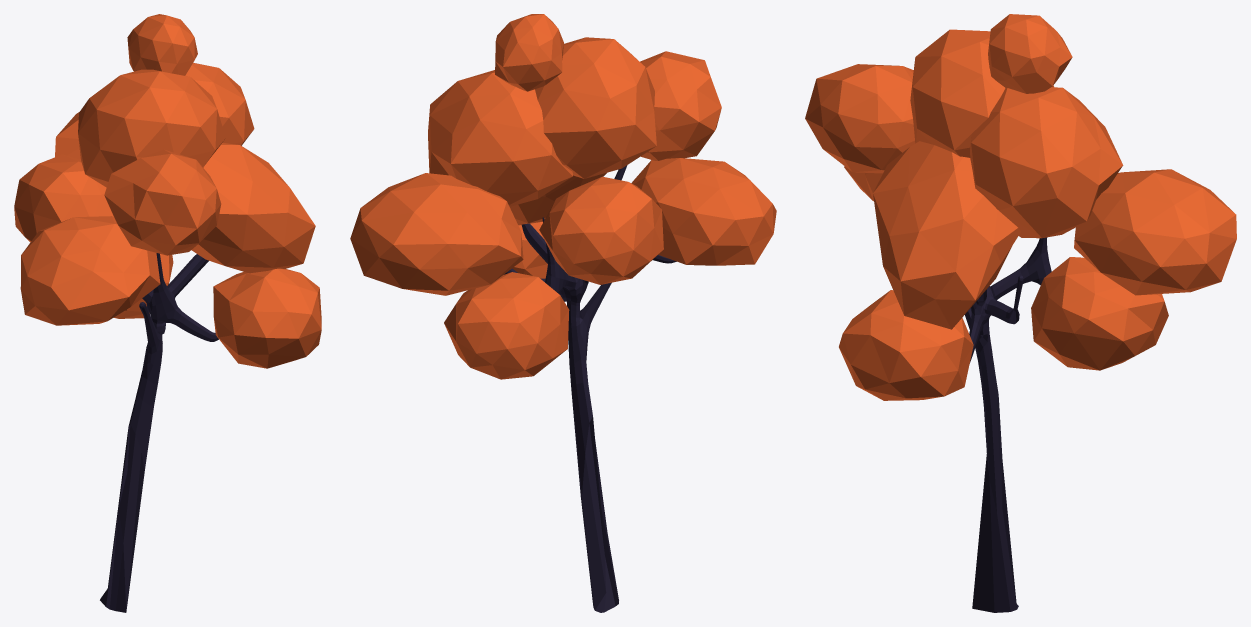
File: env_tree_type1_v2.fbx
3 views of the same model, side by side, from view 1: azimuth 30°, elevation 25°; view 2: azimuth 150°, elevation 25°; view 3: azimuth 270°, elevation 25° (orthographic). The views are drawn at different scales.
Visible parts, largest first — view 1: leaves 1, trunk 1; view 2: leaves 1, trunk 1; view 3: leaves 1, trunk 1.
Boxes of the visible parts, <box> form: leaves 1: <box>14,14,321,368</box>; trunk 1: <box>100,253,218,612</box>; leaves 1: <box>350,14,776,379</box>; trunk 1: <box>504,165,676,612</box>; leaves 1: <box>805,14,1236,400</box>; trunk 1: <box>965,237,1051,612</box>.
Bounding box in the file's own units: 1014 × 1901 × 1192.
